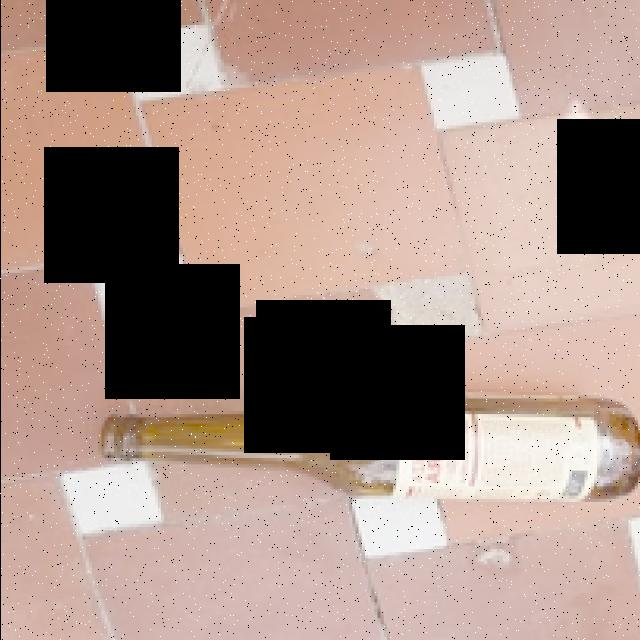glass-bottle: (86, 375, 640, 544)
